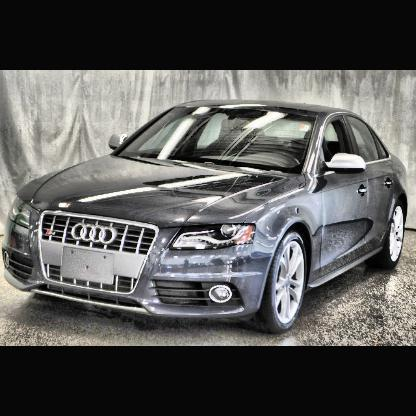Audi S4 Sedan 2012: (3, 99, 410, 331)
